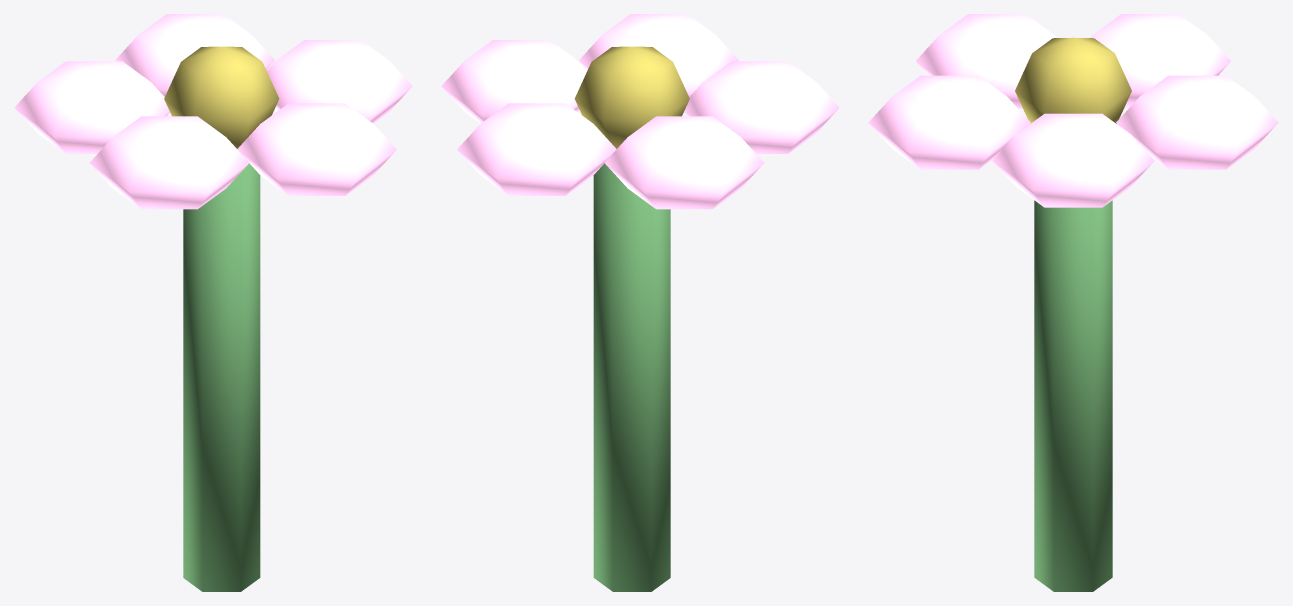
The model's file is env-flower.glb.
3 views of the same model, side by side, from view 1: azimuth 30°, elevation 25°; view 2: azimuth 150°, elevation 25°; view 3: azimuth 270°, elevation 25° (orthographic).
Parts seen in each view (by area): view 1: Env_Flower_Stem, Env_Flower_Petal_3, Env_Flower_Petal_4, Env_Flower_Petal_2, Env_Flower_Petal_0, Env_Flower_Center, Env_Flower_Petal_1; view 2: Env_Flower_Stem, Env_Flower_Petal_2, Env_Flower_Petal_1, Env_Flower_Petal_3, Env_Flower_Petal_0, Env_Flower_Center, Env_Flower_Petal_4; view 3: Env_Flower_Stem, Env_Flower_Petal_0, Env_Flower_Petal_1, Env_Flower_Petal_4, Env_Flower_Center, Env_Flower_Petal_2, Env_Flower_Petal_3.
Part boxes in pixels (left/top/right/bottom): Env_Flower_Stem: left=183, top=163, right=260, bottom=591; Env_Flower_Petal_3: left=89, top=116, right=249, bottom=209; Env_Flower_Petal_4: left=237, top=103, right=396, bottom=195; Env_Flower_Petal_2: left=14, top=61, right=169, bottom=153; Env_Flower_Petal_0: left=267, top=40, right=412, bottom=123; Env_Flower_Center: left=164, top=46, right=279, bottom=148; Env_Flower_Petal_1: left=115, top=14, right=274, bottom=96; Env_Flower_Stem: left=593, top=163, right=670, bottom=591; Env_Flower_Petal_2: left=604, top=116, right=764, bottom=209; Env_Flower_Petal_1: left=457, top=103, right=616, bottom=195; Env_Flower_Petal_3: left=684, top=61, right=839, bottom=153; Env_Flower_Petal_0: left=441, top=40, right=586, bottom=123; Env_Flower_Center: left=574, top=46, right=689, bottom=148; Env_Flower_Petal_4: left=579, top=14, right=738, bottom=96; Env_Flower_Stem: left=1034, top=200, right=1112, bottom=591; Env_Flower_Petal_0: left=992, top=113, right=1154, bottom=207; Env_Flower_Petal_1: left=1116, top=75, right=1278, bottom=169; Env_Flower_Petal_4: left=868, top=75, right=1030, bottom=169; Env_Flower_Center: left=1015, top=37, right=1131, bottom=123; Env_Flower_Petal_2: left=1090, top=14, right=1230, bottom=108; Env_Flower_Petal_3: left=916, top=14, right=1056, bottom=108.
Bounding box in the file's own units: 0.1157 × 0.183 × 0.1261.
